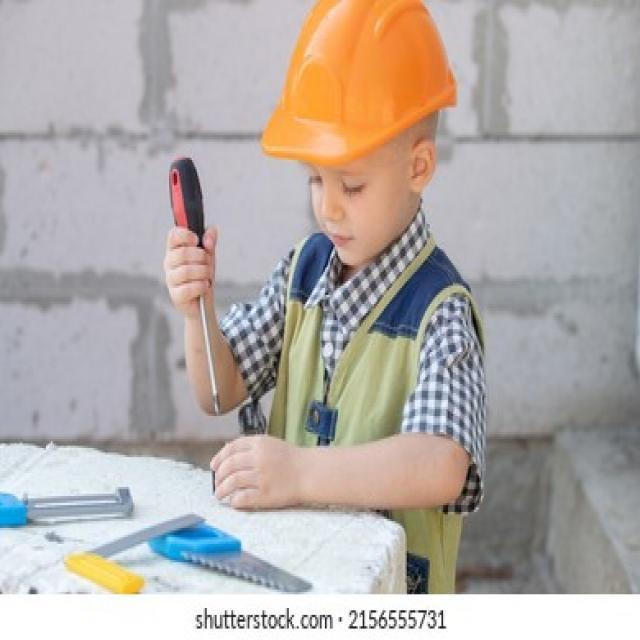screwdriver: (158, 145, 236, 422)
